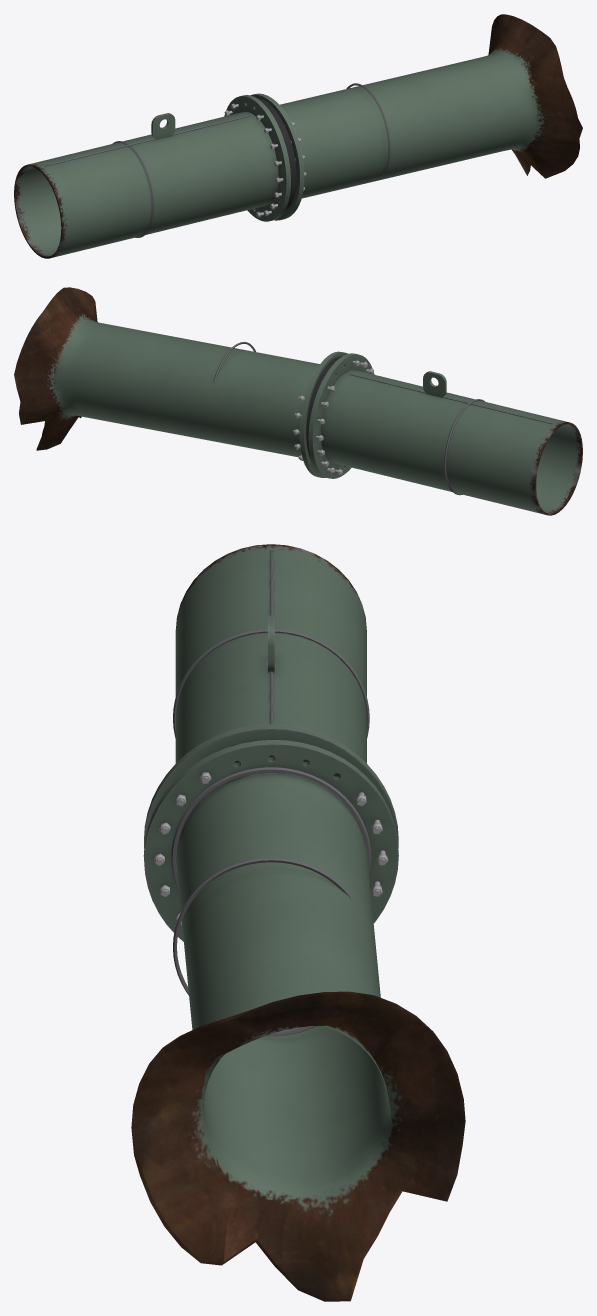
Rendered from industrial_pipe_large_fractured.glb.
3 views of the same model, one above another, from view 1: azimuth 30°, elevation 25°; view 2: azimuth 150°, elevation 25°; view 3: azimuth 270°, elevation 25° (orthographic). The views are drawn at different scales.
Parts seen in each view (by area): view 1: industrial_pipe_large_fractured_paint, industrial_pipe_large_fractured_weld, industrial_pipe_large_fractured_rubber, industrial_pipe_large_fractured_bolt; view 2: industrial_pipe_large_fractured_paint, industrial_pipe_large_fractured_weld, industrial_pipe_large_fractured_bolt, industrial_pipe_large_fractured_rubber; view 3: industrial_pipe_large_fractured_paint, industrial_pipe_large_fractured_weld, industrial_pipe_large_fractured_bolt.
Part boxes in pixels (x1,y1,x2,y2): industrial_pipe_large_fractured_paint: (14, 14, 582, 258); industrial_pipe_large_fractured_weld: (45, 83, 390, 237); industrial_pipe_large_fractured_rubber: (257, 98, 296, 210); industrial_pipe_large_fractured_bolt: (224, 103, 306, 217); industrial_pipe_large_fractured_paint: (14, 287, 582, 515); industrial_pipe_large_fractured_weld: (213, 341, 552, 495); industrial_pipe_large_fractured_bolt: (293, 360, 373, 474); industrial_pipe_large_fractured_rubber: (306, 356, 341, 460); industrial_pipe_large_fractured_paint: (131, 544, 465, 1301); industrial_pipe_large_fractured_weld: (171, 549, 371, 1036); industrial_pipe_large_fractured_bolt: (154, 772, 388, 925).
Size of the model in its own units: 3.69 by 1.09 by 1.05.
4 materials, 1 textured.
